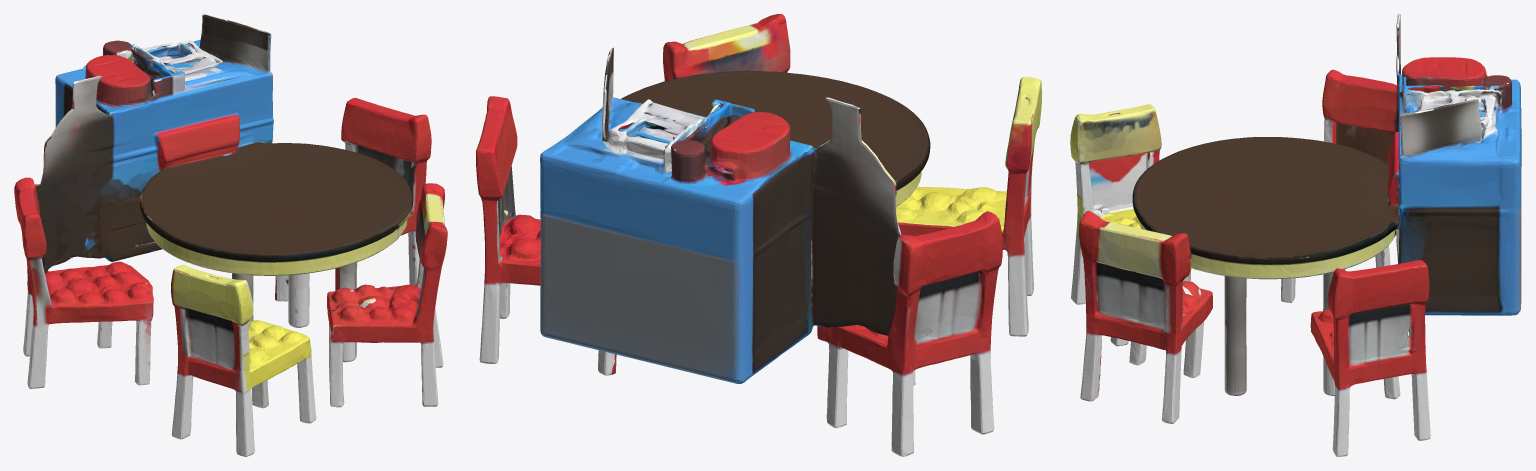
File: lego-style_chairs_and_tables.glb
The picture shows the model from 3 angles, left to right: view 1: azimuth 30°, elevation 25°; view 2: azimuth 150°, elevation 25°; view 3: azimuth 270°, elevation 25°; orthographic projection. The views are drawn at different scales.
Visible parts, largest first — view 1: tmp_b4jah0i.ply; view 2: tmp_b4jah0i.ply; view 3: tmp_b4jah0i.ply.
Part boxes in pixels (bbox=[...]): tmp_b4jah0i.ply: bbox=[14, 14, 447, 456]; tmp_b4jah0i.ply: bbox=[476, 14, 1041, 456]; tmp_b4jah0i.ply: bbox=[1070, 14, 1521, 456].
Size of the model in its own units: 2 by 1.25 by 1.82.
1 material, 1 textured.
